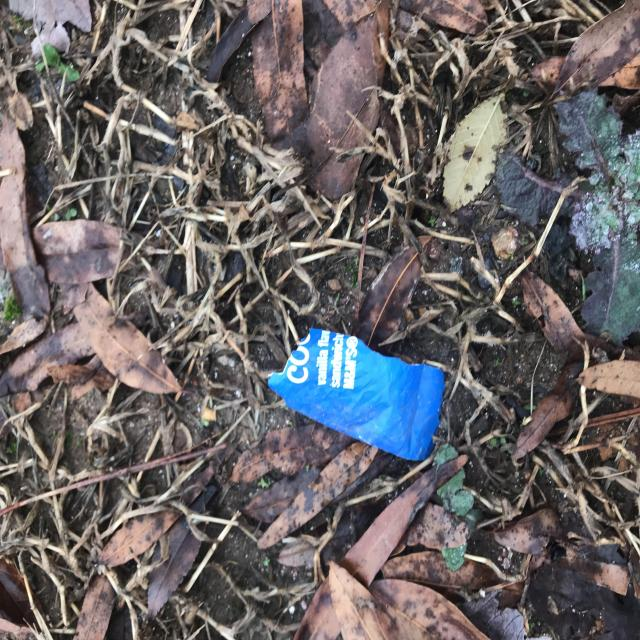litter: (267, 327, 445, 468)
